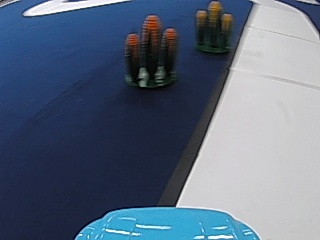corn: (122, 14, 178, 91), (195, 0, 234, 52)
